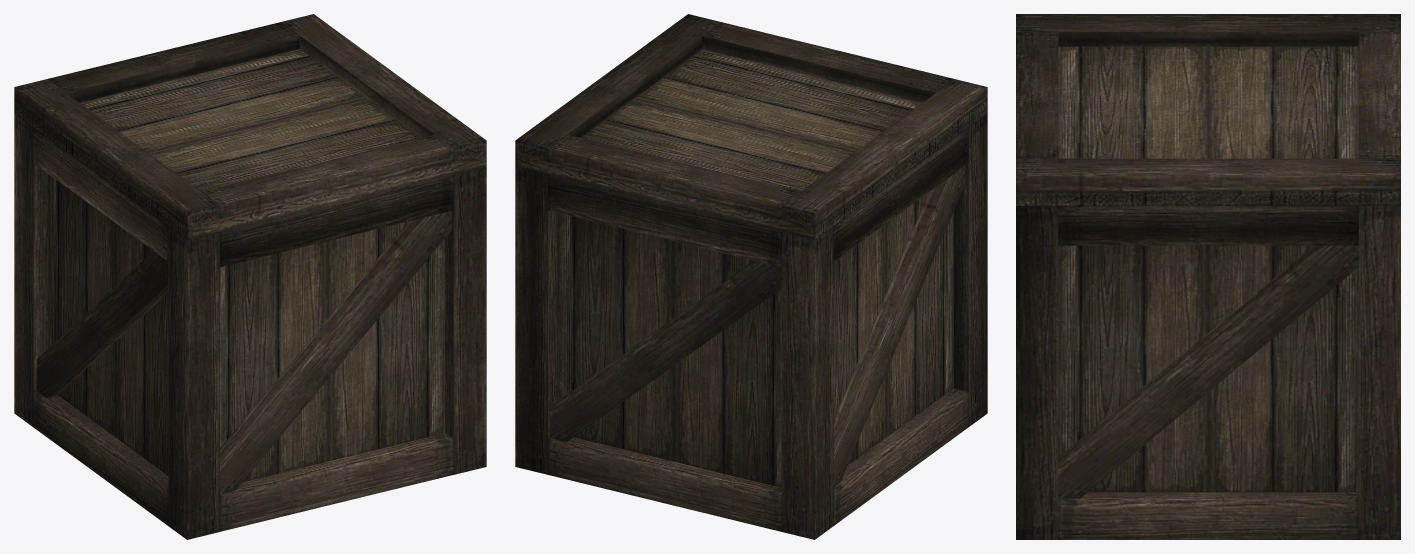
File: eso_gu10_Crate1-transformed.glb
3 views of the same model, side by side, from view 1: azimuth 30°, elevation 25°; view 2: azimuth 150°, elevation 25°; view 3: azimuth 270°, elevation 25° (orthographic). The views are drawn at different scales.
Parts seen in each view (by area): view 1: default; view 2: default; view 3: default.
Part boxes in pixels (x1,y1,x2,y2): default: (14, 14, 486, 539); default: (515, 14, 987, 539); default: (1016, 14, 1400, 539).
Size of the model in its own units: 1.45 by 1.51 by 1.45.
Materials: 1 (1 with a texture image).
